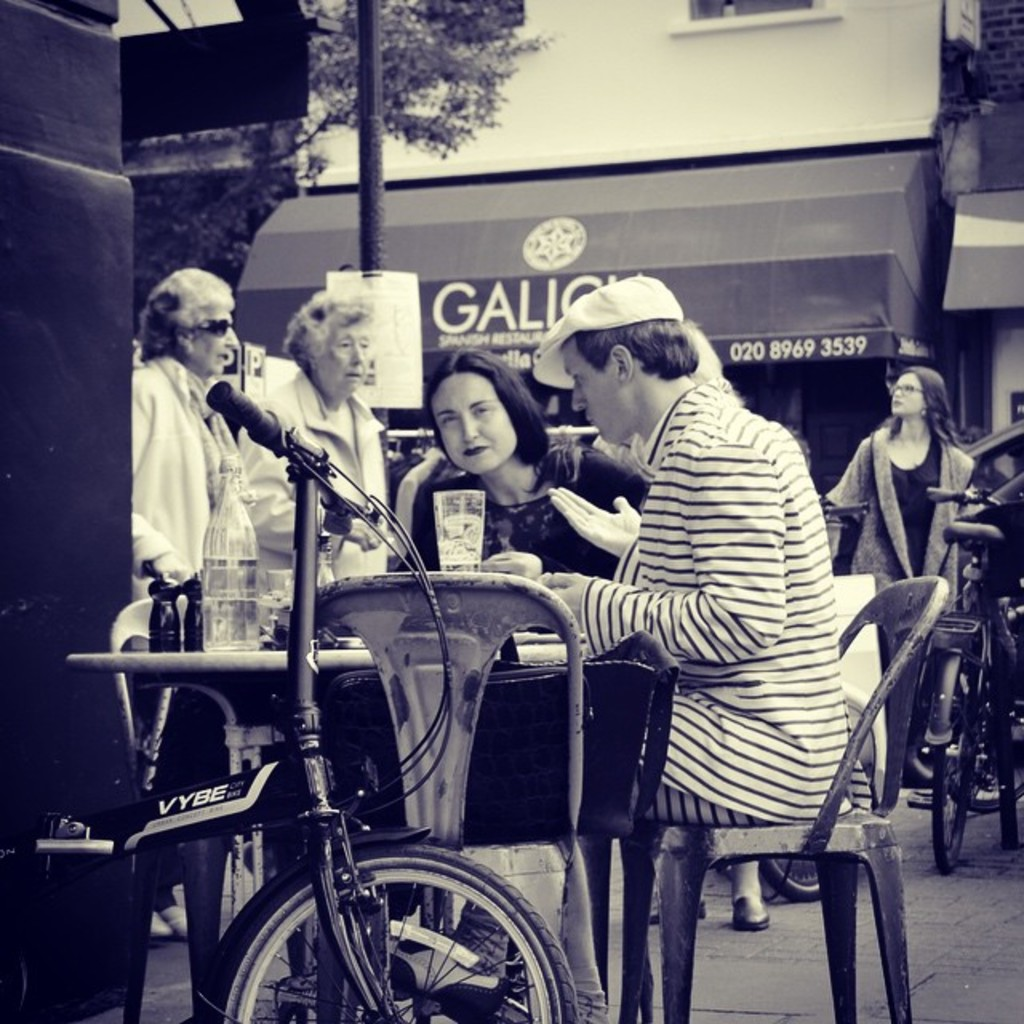Footwear: (733, 886, 768, 936)
